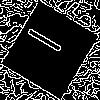I: (25, 25, 72, 60)
